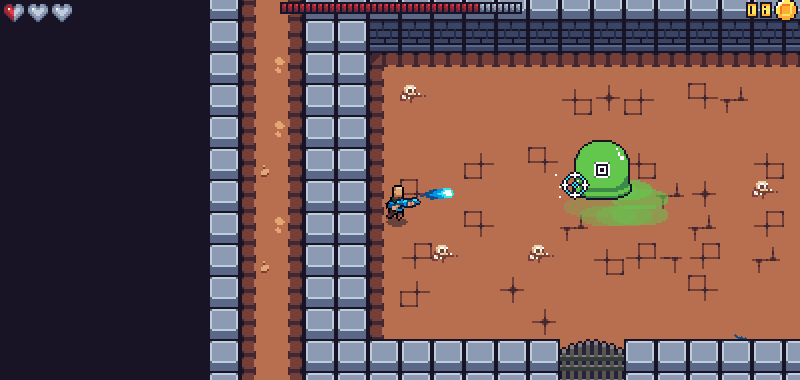enemy_slug_boss: (560, 124, 648, 209)
trap_door: (554, 330, 631, 380)
